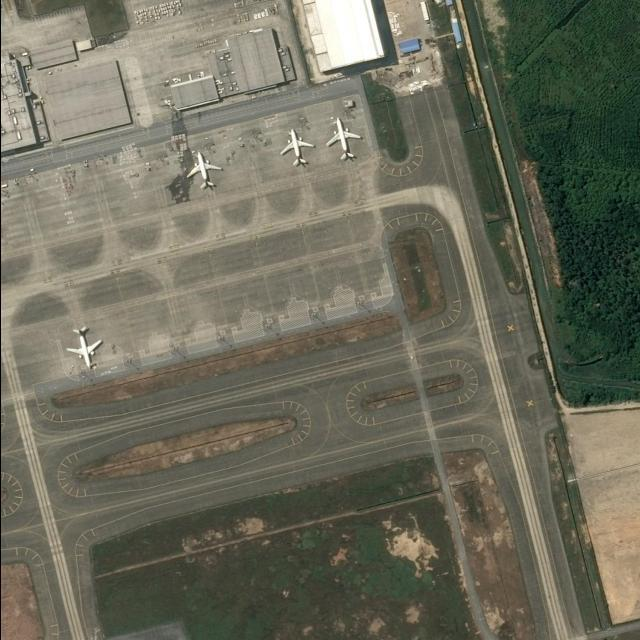Aircraft: (66, 324, 104, 372), (326, 118, 362, 165), (280, 129, 315, 169), (186, 153, 222, 191)
